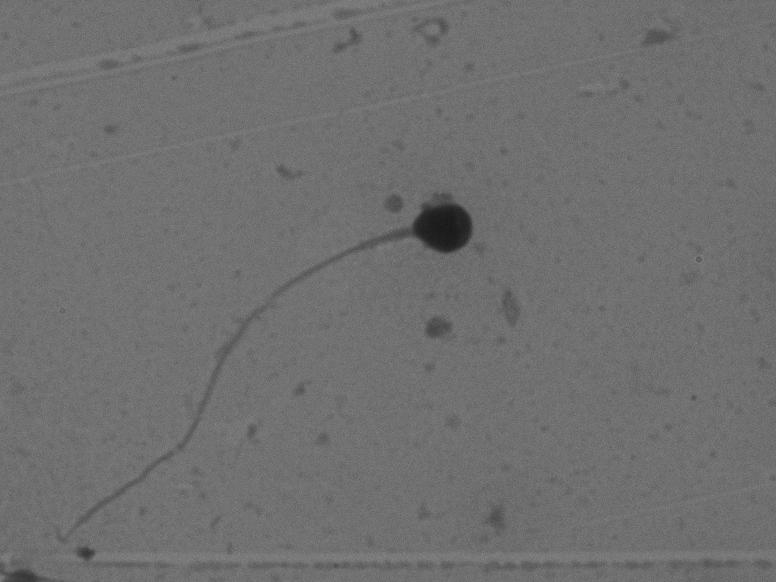Abnormal: (57, 152, 498, 536)
